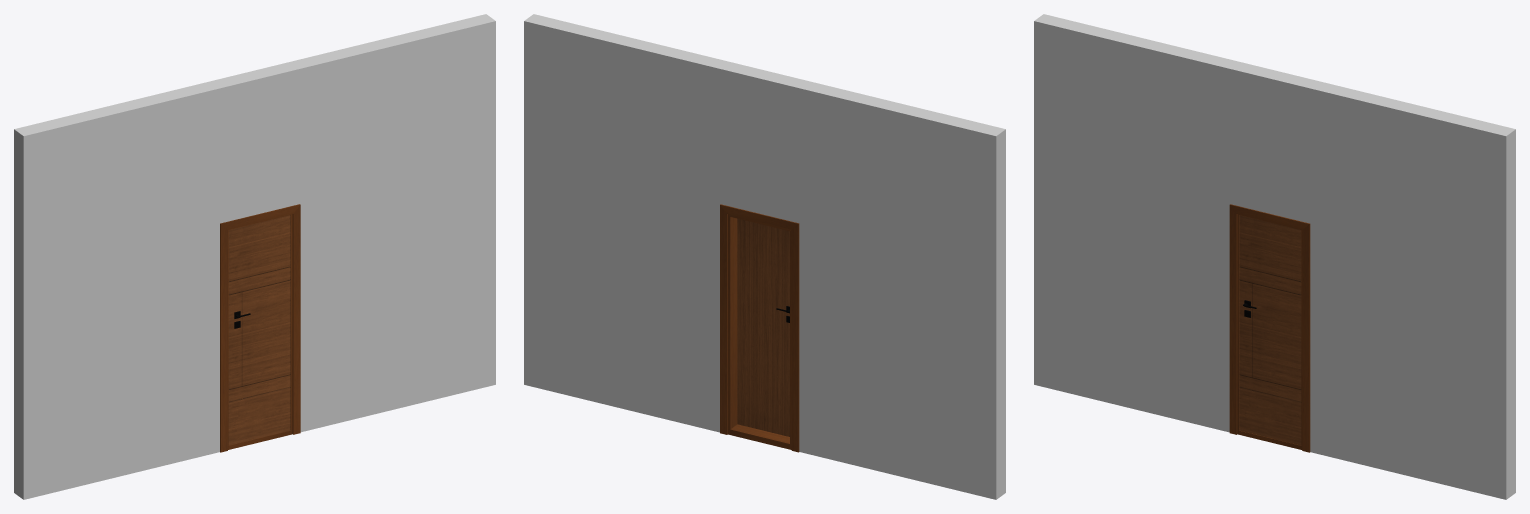
3 views of the same model, side by side, from view 1: azimuth 30°, elevation 25°; view 2: azimuth 150°, elevation 25°; view 3: azimuth 330°, elevation 25° (orthographic).
Visible parts, largest first — view 1: wall_.001, _1_door_, _1_architrave.001, _1_frame.001; view 2: wall_.001, _1_door_, _1_architrave.001, _1_frame.001, _1_threshold.001; view 3: wall_.001, _1_door_, _1_architrave.001, _1_frame.001.
Part boxes in pixels (bbox=[...]): wall_.001: bbox=[14, 14, 495, 499]; _1_door_: bbox=[228, 215, 290, 445]; _1_architrave.001: bbox=[220, 204, 300, 452]; _1_frame.001: bbox=[228, 214, 292, 449]; wall_.001: bbox=[524, 14, 1005, 499]; _1_door_: bbox=[737, 218, 789, 436]; _1_architrave.001: bbox=[720, 204, 799, 452]; _1_frame.001: bbox=[728, 214, 791, 449]; _1_threshold.001: bbox=[730, 424, 789, 449]; wall_.001: bbox=[1034, 14, 1515, 499]; _1_door_: bbox=[1239, 215, 1301, 445]; _1_architrave.001: bbox=[1229, 204, 1310, 452]; _1_frame.001: bbox=[1237, 214, 1302, 449].
Bounding box in the file's own units: 3.96 × 2.92 × 0.1862.
Materials: 3 (2 with a texture image).
